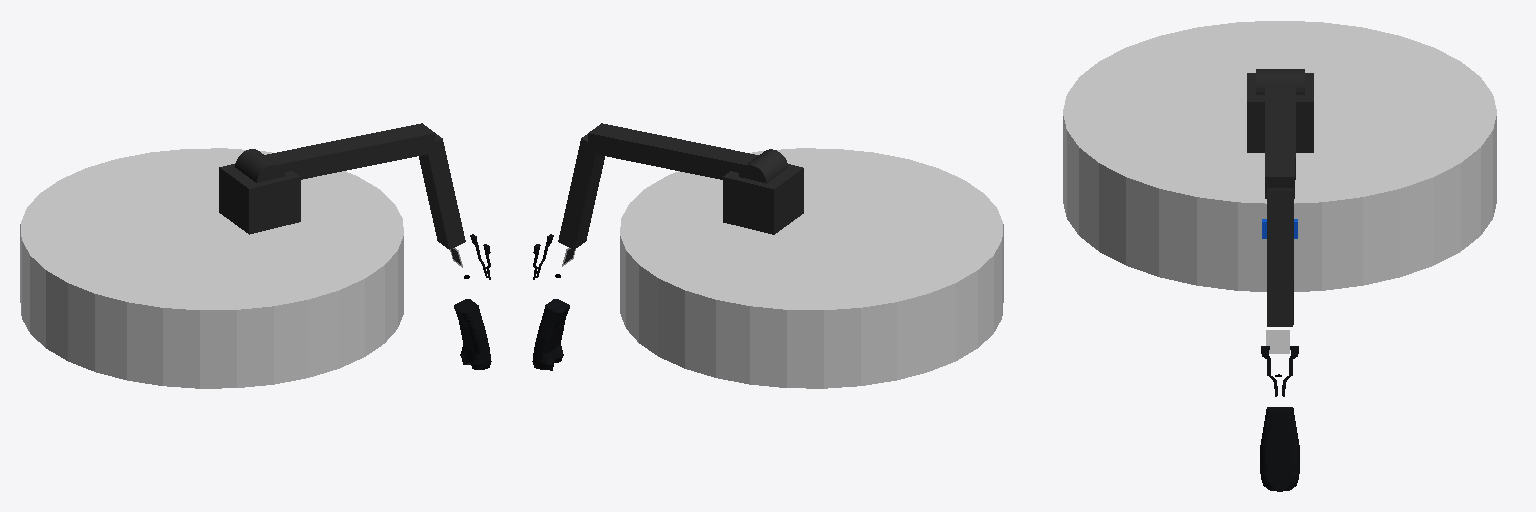
URDF robot description (z70):
<?xml version="1.0" ?><!-- =================================================================================== --><!-- |    This document was autogenerated by xacro from /Users/mpentax/Code/RoboRockZ70-Connector/ros2/install/z70_description/share/z70_description/urdf/z70.urdf.xacro | --><!-- |    EDITING THIS FILE BY HAND IS NOT RECOMMENDED                                 | --><!-- =================================================================================== --><!--
  Roborock Saros Z70 - kinematic description.
  PROVISIONAL shared geometry: config/mount_calibration.yaml, 20261015.
  L2=0.205 and the vendor shoulder reference define a coordinate gauge, NOT measured wrist anatomy.
  M4 zero/physical L2 remain confounded with unknown marker mounts. Firmware FK stays in arm_model.py.
  Display assembly length follows rough owner tape; internal wrist/finger split and M6 remain provisional.
  M5 stays at the nominal gauge station; rolling visuals are translated back along the same x axis.

  URDF joint values (radians) from app angles (degrees), computed in z70_bridge:
    m3_joint = rad(M3 - 270)      link1 absolute app angle = 270 - M3 (from +x toward up)
    m4_joint = rad(180 - M4)      link2 relative to link1 = M4 - 180
    m5_joint = -rad(M5), axis -x  => physical positive roll (live 20261014T144906Z)
    m6 fingers = rad(M6)/2 each   0 closed, 90 open
--><robot name="z70"><material name="body"><color rgba="0.85 0.85 0.85 1"/></material><material name="arm"><color rgba="0.2 0.2 0.2 1"/></material><material name="cam"><color rgba="0.1 0.4 0.9 1"/></material><material name="pincher_shell"><color rgba="0.10 0.105 0.115 1"/></material><material name="pincher_glass"><color rgba="0.025 0.03 0.035 1"/></material><link name="base_footprint"/><link name="base_link"><visual><origin xyz="0.09720000000000001 0 0.04"/><geometry><cylinder length="0.08" radius="0.1778"/></geometry><material name="body"/></visual></link><joint name="base_joint" type="fixed"><parent link="base_footprint"/><child link="base_link"/></joint><!-- front RGB camera --><link name="camera_link"><visual><geometry><box size="0.01 0.03 0.015"/></geometry><material name="cam"/></visual></link><joint name="camera_joint" type="fixed"><parent link="base_link"/><child link="camera_link"/><!-- New-run floor normal; roll is required for projector/optical-TF agreement. --><origin rpy="-0.007257016757390962 -0.02371494019965833 0" xyz="0.275 0 0.058233433935542395"/></joint><link name="camera_optical_frame"/><joint name="camera_optical_joint" type="fixed"><parent link="camera_link"/><child link="camera_optical_frame"/><origin rpy="-1.5707963267948966 0 -1.5707963267948966"/></joint><!-- Raised base: illustrative pedestal, NOT a surveyed enclosure shape.
       Keep base_footprint/odometry untouched; body nose alignment is visual only. --><link name="arm_base_pedestal_provisional"><visual><origin xyz="0 0 0.02321514576215148"/><geometry><box size="0.055 0.055 0.04643029152430296"/></geometry><material name="arm"/></visual></link><joint name="arm_base_pedestal_mount" type="fixed"><parent link="base_link"/><child link="arm_base_pedestal_provisional"/><origin xyz="0.14851727583481525 0.0005165412464665272 0.08"/></joint><!-- arm: planar chain in the x-z plane, revolute about +y --><link name="arm_shoulder_link"><visual><geometry><cylinder length="0.04" radius="0.015"/></geometry><origin rpy="1.5707963267948966 0 0"/><material name="arm"/></visual></link><link name="arm_vendor_frame"/><joint name="arm_mount" type="fixed"><parent link="base_footprint"/><child link="arm_vendor_frame"/><origin rpy="0 0 -0.0022922989427041425" xyz="0.10101740063232861 0.0006254253508872214 -0.013569708475697051"/></joint><joint name="arm_shoulder_mount" type="fixed"><parent link="arm_vendor_frame"/><child link="arm_shoulder_link"/><origin xyz="0.0475 0 0.14"/></joint><link name="arm_link1"><visual><origin xyz="0.08996244468280346 0 0"/><geometry><box size="0.1799248893656069 0.025 0.02"/></geometry><material name="arm"/></visual></link><joint name="m3_joint" type="revolute"><parent link="arm_shoulder_link"/><child link="arm_link1"/><origin rpy="0 0.039630310698817714 0"/><axis xyz="0 1 0"/><limit effort="5" lower="-3.141592653589793" upper="0" velocity="1"/></joint><link name="arm_link2"><visual><origin xyz="0.057150000000000006 0 0"/><geometry><box size="0.11430000000000001 0.022 0.018"/></geometry><material name="arm"/></visual></link><joint name="m4_joint" type="revolute"><parent link="arm_link1"/><child link="arm_link2"/><origin rpy="0 -0.039630310698817714 0" xyz="0.1799248893656069 0 0"/><axis xyz="0 1 0"/><limit effort="5" lower="0.17453292519943295" upper="2.5307274153917776" velocity="1"/></joint><!-- Camera rolls with M5 (measured 20261014T144906Z); nominal L2 is only a gauge. --><link name="gripper_camera_link"><!-- Small glass surface INSIDE the shared shell's real pocket. +X is view direction. --><visual><geometry><mesh filename="package://z70_description/meshes/pincher_lens.stl"/></geometry><material name="pincher_glass"/></visual></link><joint name="gripper_camera_mount" type="fixed"><parent link="arm_wrist_link"/><child link="gripper_camera_link"/><origin rpy="0.002174875751192185 -0.038601534561726554 0.001844468133870814" xyz="-0.04838856956211718 -0.0011258744987861164 0.00659228305051777"/></joint><link name="gripper_camera_optical_frame"/><joint name="gripper_camera_optical_joint" type="fixed"><parent link="gripper_camera_link"/><child link="gripper_camera_optical_frame"/><origin rpy="-1.5707963267948966 0 -1.5707963267948966"/></joint><link name="arm_wrist_link"><!-- One connected rounded shell: flat marker-adjoining underside, flat upper
         plate and tapered wrist transition. Actual cavity walls/back, not a mask.
         Hidden anatomy and depth illustrative; all calibrated TF stay untouched. --><visual><geometry><mesh filename="package://z70_description/meshes/pincher_shell.stl"/></geometry><material name="pincher_shell"/></visual></link><joint name="m5_joint" type="revolute"><parent link="arm_link2"/><child link="arm_wrist_link"/><origin xyz="0.205 0 0"/><axis xyz="-1 0 0"/><limit effort="5" lower="-2.705260340591211" upper="0" velocity="1"/></joint><link name="finger_left"><visual><geometry><mesh filename="package://z70_description/meshes/pincher_finger_left.stl"/></geometry><material name="pincher_shell"/></visual></link><joint name="m6_left_joint" type="revolute"><parent link="arm_wrist_link"/><child link="finger_left"/><origin xyz="-0.07069999999999997 0.012 0.028"/><axis xyz="0 0 1"/><limit effort="1" lower="0" upper="0.7853981633974483" velocity="1"/></joint><link name="finger_right"><visual><geometry><mesh filename="package://z70_description/meshes/pincher_finger_right.stl"/></geometry><material name="pincher_shell"/></visual></link><joint name="m6_right_joint" type="revolute"><parent link="arm_wrist_link"/><child link="finger_right"/><origin xyz="-0.07069999999999997 -0.012 0.028"/><axis xyz="0 0 -1"/><limit effort="1" lower="0" upper="0.7853981633974483" velocity="1"/></joint><!-- ID68 is on the underside of the pincher, not at the nominal wrist.
       Preserve all three measured rotation axes; only the black square must be planar.
       Paper thickness is illustrative and offset behind the registered printed plane. --><link name="pincher_marker_68"><visual><origin xyz="0 0 -0.0002"/><geometry><box size="0.02 0.02 0.0004"/></geometry><material name="body"/></visual><visual><origin xyz="0 0 0.00005"/><geometry><box size="0.015 0.015 0.0001"/></geometry><material name="arm"/></visual></link><joint name="pincher_marker_68_mount" type="fixed"><parent link="arm_wrist_link"/><child link="pincher_marker_68"/><origin rpy="3.0950421233739274 -0.024953128353835362 1.564202731249083" xyz="-0.0762429935460632 -0.0016392305376903915 -2.4713510930205254e-06"/></joint><link name="gripper_tcp"/><joint name="tcp_joint" type="fixed"><parent link="arm_wrist_link"/><child link="gripper_tcp"/><!-- Provisional marker-relative terminal-region surrogate, not an exact pad/contact-seam midpoint; physical M5 station and pad anatomy remain unmeasured. --><origin xyz="-0.04250228216791799 -0.0011288909068253214 0.019629324213822588"/></joint></robot>

--- What the picture shows (computed from the rendered views, not written in the file) ---
The picture shows the robot from 3 angles, left to right: view 1: azimuth 30°, elevation 25°; view 2: azimuth 150°, elevation 25°; view 3: azimuth 270°, elevation 25°; orthographic projection.
Model z70 with 16 links and 15 joints (5 revolute, 10 fixed), rooted at base_footprint, posed all joints at 0 but 1 set to mid-range because 0 is outside their limits (m4_joint = 1.35).
Links seen in each view (by area): view 1: base_link, arm_link1, arm_base_pedestal_provisional, arm_link2, arm_wrist_link, arm_shoulder_link; view 2: base_link, arm_link1, arm_base_pedestal_provisional, arm_link2, arm_wrist_link, arm_shoulder_link; view 3: base_link, arm_link2, arm_link1, arm_wrist_link, arm_base_pedestal_provisional, arm_shoulder_link, pincher_marker_68.
Boxes of the visible links, x1=… form: base_link: x1=20, y1=148, x2=403, y2=388; arm_link1: x1=265, y1=123, x2=435, y2=179; arm_base_pedestal_provisional: x1=219, y1=163, x2=300, y2=234; arm_link2: x1=419, y1=134, x2=465, y2=249; arm_wrist_link: x1=454, y1=299, x2=491, y2=369; arm_shoulder_link: x1=235, y1=149, x2=284, y2=182; base_link: x1=620, y1=148, x2=1003, y2=388; arm_link1: x1=588, y1=123, x2=758, y2=179; arm_base_pedestal_provisional: x1=723, y1=164, x2=803, y2=234; arm_link2: x1=558, y1=134, x2=604, y2=249; arm_wrist_link: x1=532, y1=299, x2=569, y2=370; arm_shoulder_link: x1=739, y1=149, x2=787, y2=183; base_link: x1=1063, y1=21, x2=1496, y2=291; arm_link2: x1=1267, y1=188, x2=1293, y2=326; arm_link1: x1=1265, y1=83, x2=1295, y2=198; arm_wrist_link: x1=1260, y1=407, x2=1299, y2=491; arm_base_pedestal_provisional: x1=1247, y1=73, x2=1313, y2=152; arm_shoulder_link: x1=1256, y1=69, x2=1304, y2=94; pincher_marker_68: x1=1266, y1=330, x2=1289, y2=353.
Bounding box of the posed robot: 0.4734 × 0.3556 × 0.2673 m (x, y, z).
Meshes: 4 distinct files referenced, 4 mesh visuals loaded (4 binary STL).
